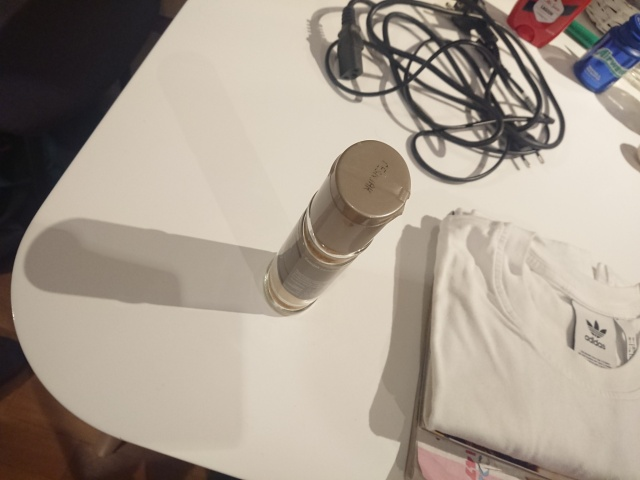Kotanyi Garlic Granules 70g: (260, 136, 414, 319)
